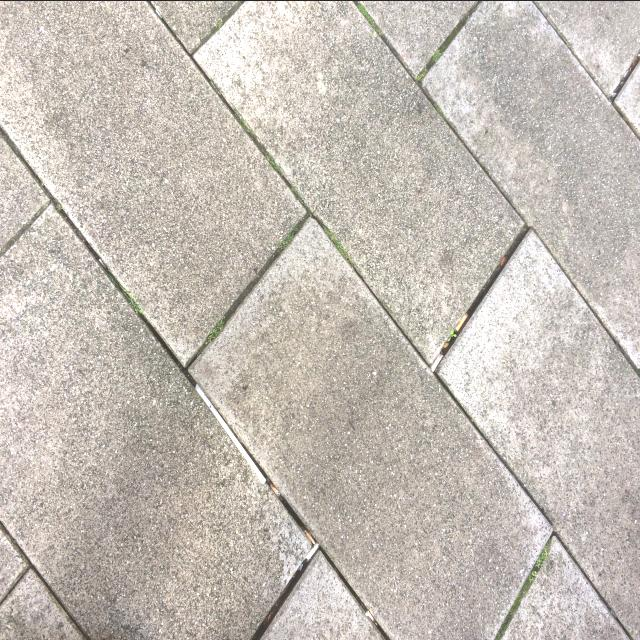Cigarette: (304, 541, 320, 561), (429, 353, 443, 372), (455, 312, 468, 332), (365, 610, 377, 626), (304, 529, 315, 544), (270, 483, 280, 497)
Plastic straw: (195, 382, 266, 482)
